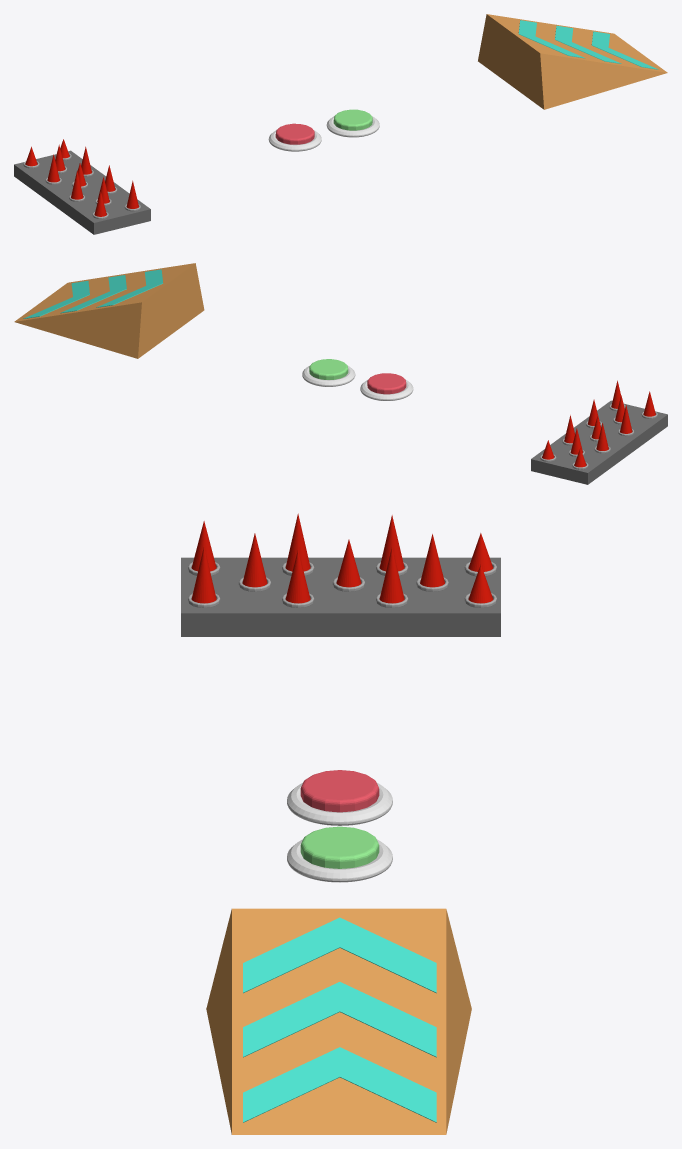
The model's file is obstacle07.fbx.
3 views of the same model, one above another, from view 1: azimuth 30°, elevation 25°; view 2: azimuth 150°, elevation 25°; view 3: azimuth 270°, elevation 25° (orthographic). The views are drawn at different scales.
Parts seen in each view (by area): view 1: obstacle07.7, obstacle07.1, obstacle07.2, obstacle07.5, obstacle07.4, obstacle07.6, obstacle07.3; view 2: obstacle07.7, obstacle07.1, obstacle07.2, obstacle07.4, obstacle07.5, obstacle07.6, obstacle07.3; view 3: obstacle07.7, obstacle07.1, obstacle07.2, obstacle07.5, obstacle07.4, obstacle07.6, obstacle07.3.
Part boxes in pixels (x1,y1,x2,y2): obstacle07.7: (478, 14, 667, 109); obstacle07.1: (14, 150, 150, 234); obstacle07.2: (25, 139, 138, 216); obstacle07.5: (333, 109, 372, 130); obstacle07.4: (275, 123, 314, 144); obstacle07.6: (326, 116, 379, 137); obstacle07.3: (268, 130, 321, 151); obstacle07.7: (14, 263, 204, 358); obstacle07.1: (531, 400, 667, 484); obstacle07.2: (542, 380, 655, 467); obstacle07.4: (367, 373, 406, 394); obstacle07.5: (309, 359, 348, 379); obstacle07.6: (302, 365, 355, 386); obstacle07.3: (360, 379, 413, 400); obstacle07.7: (206, 908, 471, 1134); obstacle07.1: (181, 557, 500, 636); obstacle07.2: (191, 513, 493, 603); obstacle07.5: (300, 826, 379, 868); obstacle07.4: (300, 770, 379, 812); obstacle07.6: (287, 839, 392, 882); obstacle07.3: (287, 783, 392, 825).
Size of the model in its own units: 700 by 68.82 by 165.
